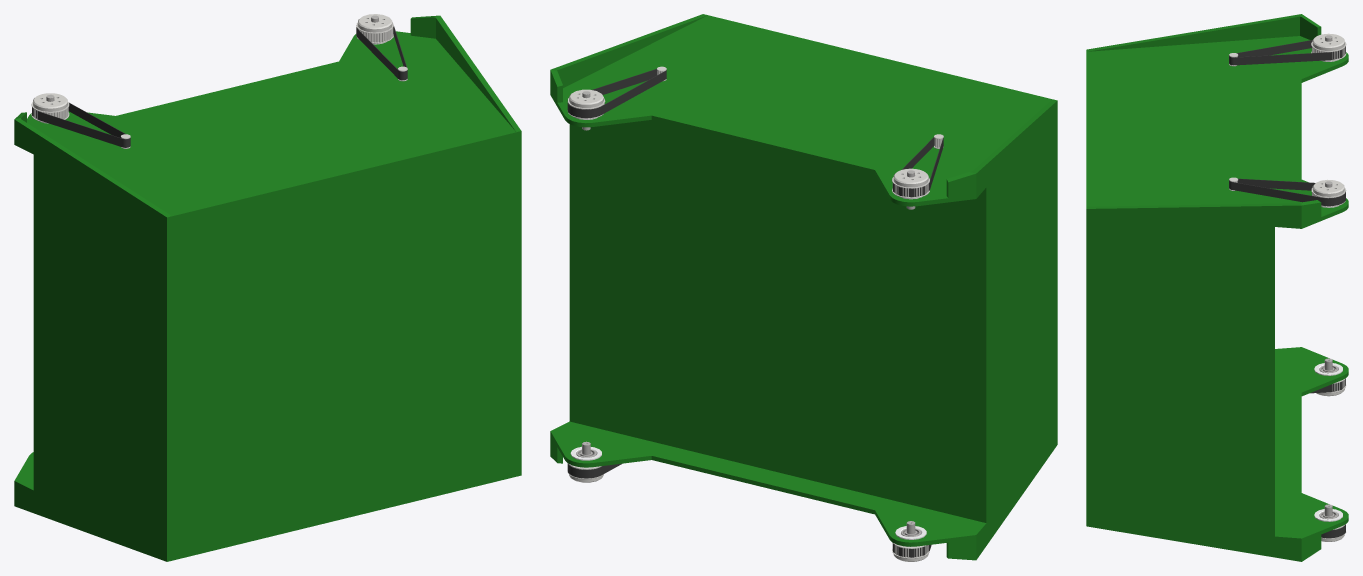
The model's file is robot_body.obj.
3 views of the same model, side by side, from view 1: azimuth 30°, elevation 25°; view 2: azimuth 150°, elevation 25°; view 3: azimuth 270°, elevation 25° (orthographic). The views are drawn at different scales.
Parts seen in each view (by area): view 1: Robot_v1_simple_body_only; view 2: Robot_v1_simple_body_only; view 3: Robot_v1_simple_body_only.
Part boxes in pixels (x1=…): Robot_v1_simple_body_only: x1=14, y1=14, x2=521, y2=561; Robot_v1_simple_body_only: x1=550, y1=14, x2=1057, y2=561; Robot_v1_simple_body_only: x1=1086, y1=14, x2=1348, y2=561.
Size of the model in its own units: 0.8411 by 0.73 by 0.487.
